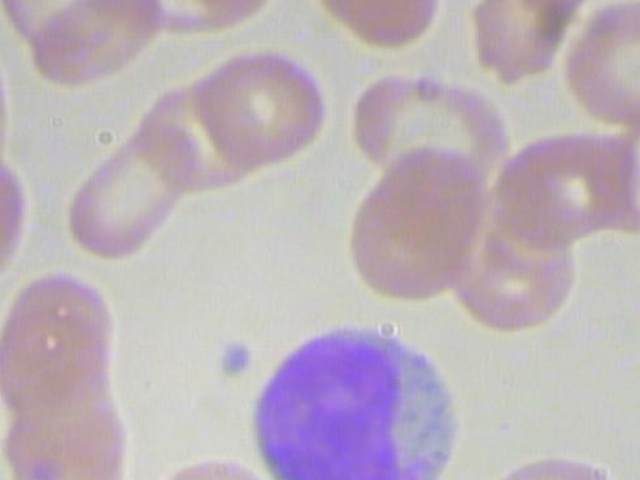Platelets: (217, 341, 258, 381)
RBC: (339, 143, 485, 313), (48, 116, 206, 262), (345, 69, 517, 196), (442, 187, 585, 332), (184, 43, 338, 172), (27, 0, 168, 93), (559, 0, 640, 137), (300, 0, 454, 59), (472, 444, 628, 480), (0, 146, 32, 291), (153, 457, 294, 480)
WBC: (246, 317, 468, 480)
